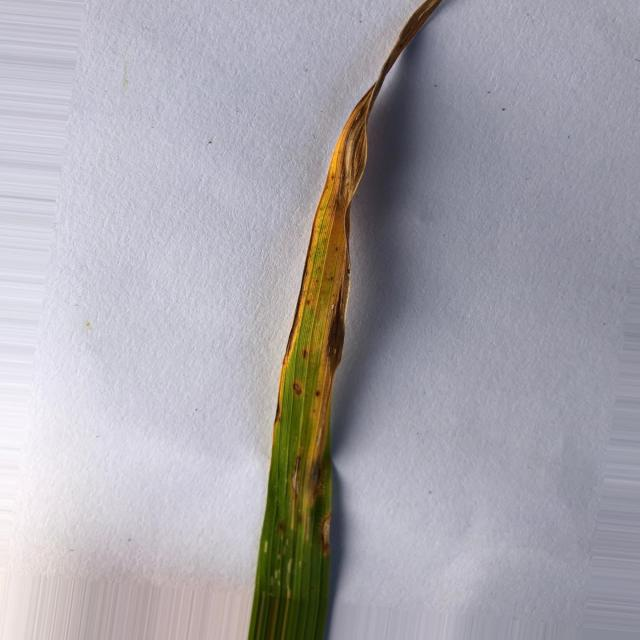Rice Tungro: (275, 0, 441, 539)
